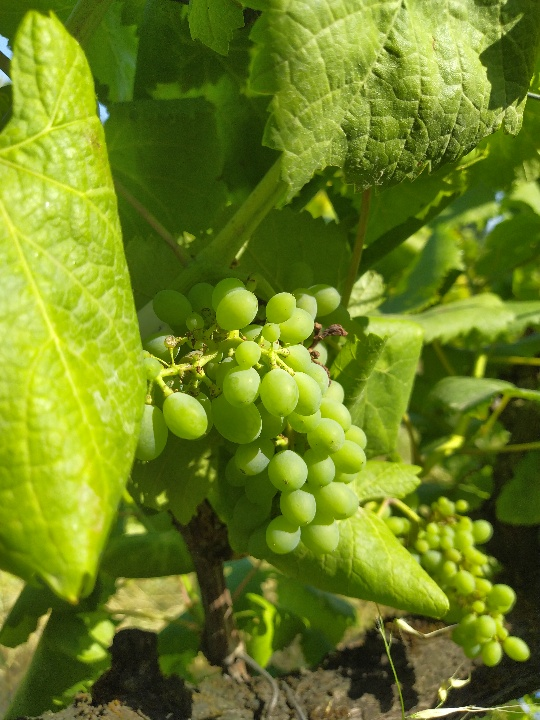grape: (138, 277, 367, 557), (386, 501, 535, 668)
